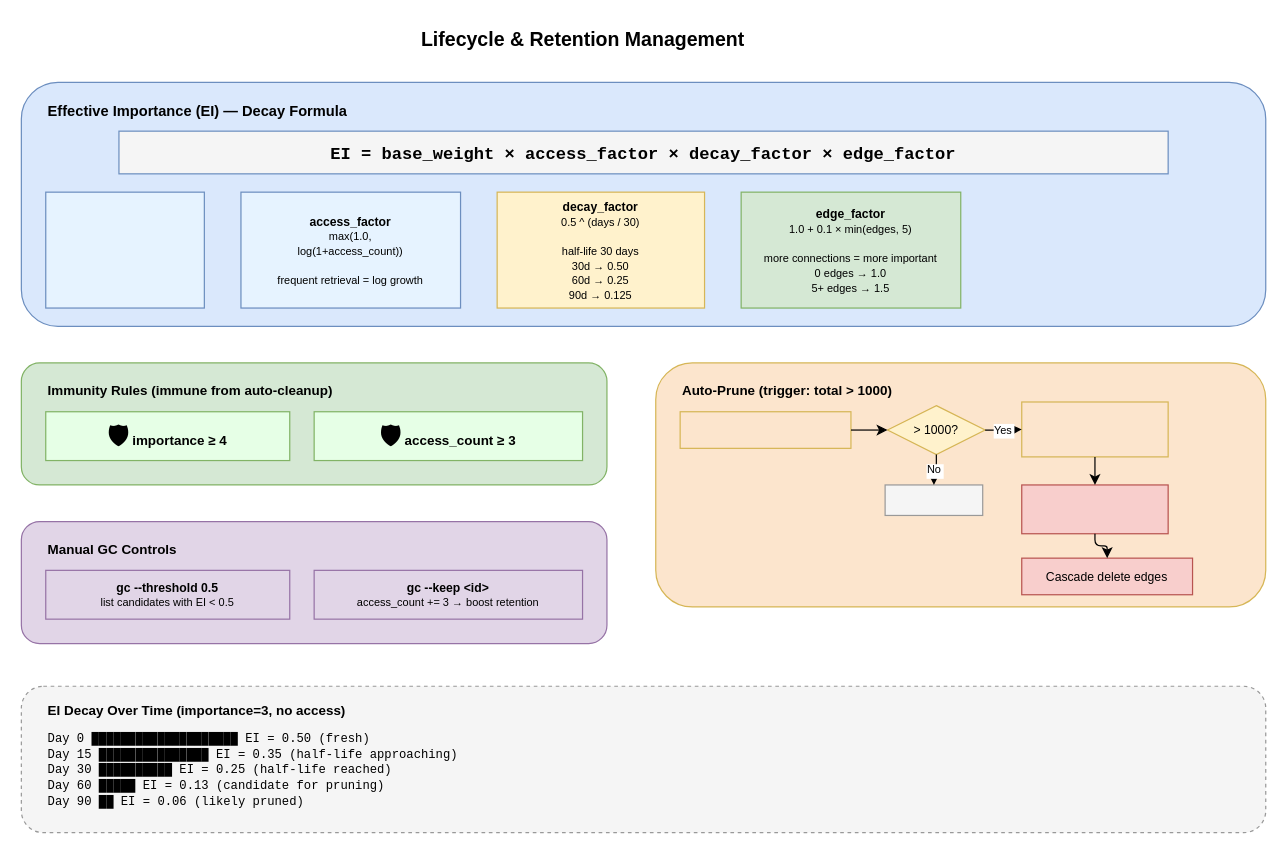
Some shapes in this 1287 by 854 pixel diagram are drawn without their labels. The box of each missing label's shape, as (x1, y1, x2, y2) in pixels:
base_weight imp 5 → 1.00 imp 4 → 0.80 imp 3 → 0.50 imp 2 → 0.30 imp 1 → 0.15: (45, 191, 204, 308)
Count active insights: (679, 411, 851, 448)
No-op: (884, 484, 983, 515)
Soft delete SET deleted_at = now(): (1021, 484, 1168, 534)
Sort by EI ASC exclude immune take bottom 10: (1021, 401, 1168, 457)
